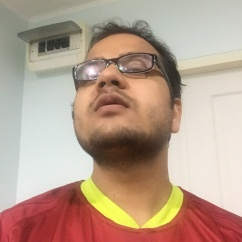glasses: (68, 57, 166, 76)
